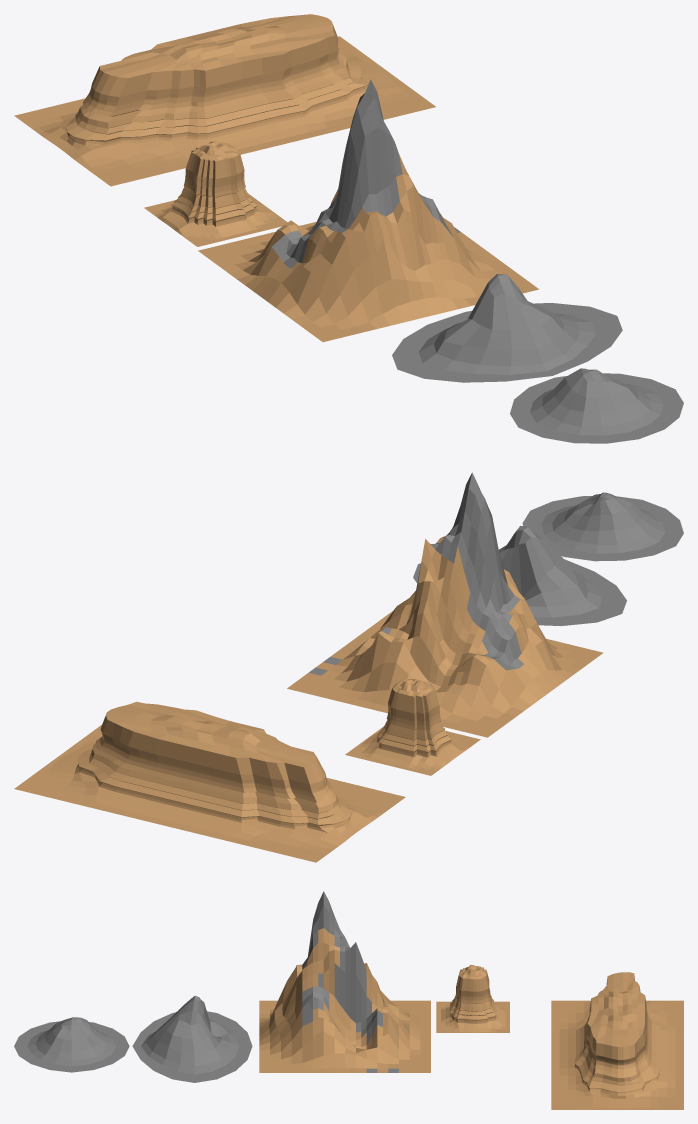
File: Test Mountains.fbx
3 views of the same model, one above another, from view 1: azimuth 30°, elevation 25°; view 2: azimuth 150°, elevation 25°; view 3: azimuth 270°, elevation 25° (orthographic). The views are drawn at different scales.
Parts seen in each view (by area): view 1: Plane.002, Plane.001, Cube.288, Cube.287, Plane; view 2: Plane.002, Plane.001, Cube.287, Cube.288, Plane; view 3: Plane.001, Plane.002, Cube.288, Cube.287, Plane.
Boxes of the visible parts, x1=… form: Plane.002: x1=14, y1=14, x2=435, y2=186; Plane.001: x1=198, y1=79, x2=539, y2=341; Cube.288: x1=392, y1=274, x2=622, y2=382; Cube.287: x1=510, y1=368, x2=683, y2=443; Plane: x1=144, y1=140, x2=287, y2=246; Plane.002: x1=14, y1=701, x2=405, y2=862; Plane.001: x1=287, y1=472, x2=603, y2=737; Cube.287: x1=522, y1=492, x2=683, y2=561; Cube.288: x1=413, y1=526, x2=626, y2=625; Plane: x1=345, y1=679, x2=480, y2=775; Plane.001: x1=259, y1=891, x2=430, y2=1072; Plane.002: x1=551, y1=972, x2=683, y2=1109; Cube.288: x1=132, y1=995, x2=252, y2=1082; Cube.287: x1=14, y1=1017, x2=129, y2=1072; Plane: x1=436, y1=965, x2=509, y2=1032.
Size of the model in its own units: 41448 by 24976 by 107400.
